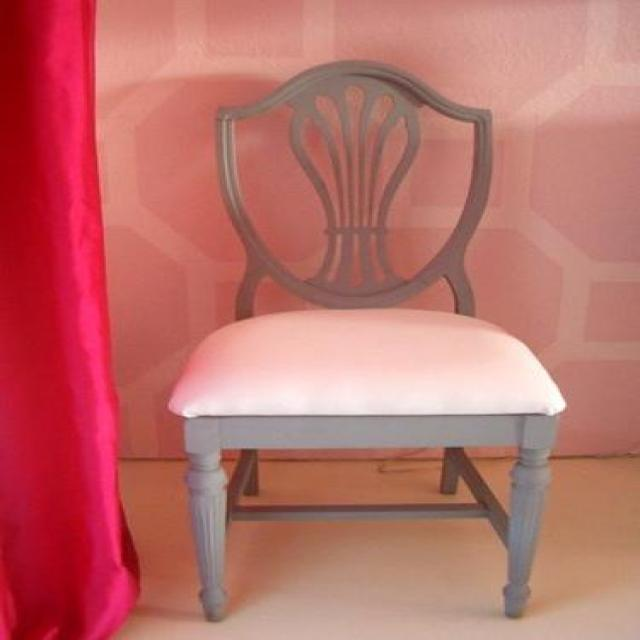chair: (166, 58, 566, 622)
